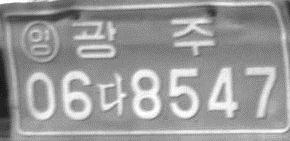0: (24, 70, 55, 121)
4: (206, 66, 238, 118)
5: (168, 68, 200, 120)
6: (60, 69, 93, 121)
7: (243, 65, 277, 118)
8: (129, 68, 162, 120)
광주_D: (71, 17, 215, 59)
다: (97, 73, 127, 118)
영: (19, 19, 59, 64)
